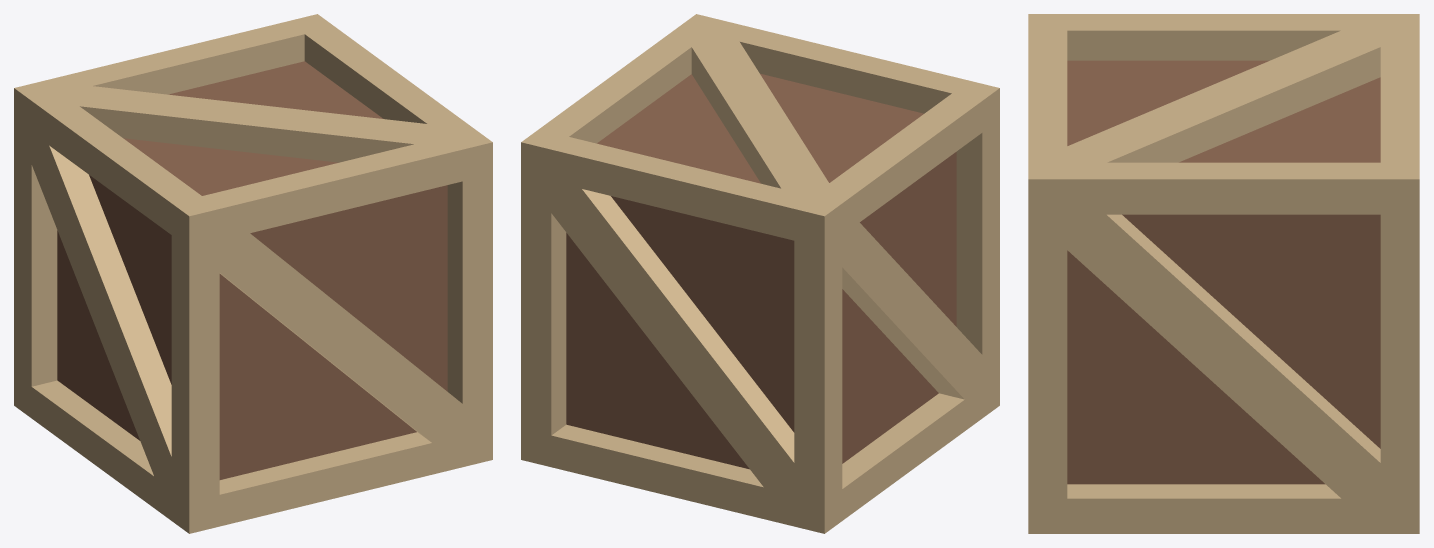
The model's file is Crate1.fbx.
3 views of the same model, side by side, from view 1: azimuth 30°, elevation 25°; view 2: azimuth 150°, elevation 25°; view 3: azimuth 270°, elevation 25° (orthographic). The views are drawn at different scales.
Visible parts, largest first — view 1: Cube; view 2: Cube; view 3: Cube.
Part boxes in pixels (x1,y1,x2,y2): Cube: (14, 14, 492, 533); Cube: (521, 14, 999, 533); Cube: (1028, 14, 1419, 533).
Size of the model in its own units: 1 by 1 by 1.
